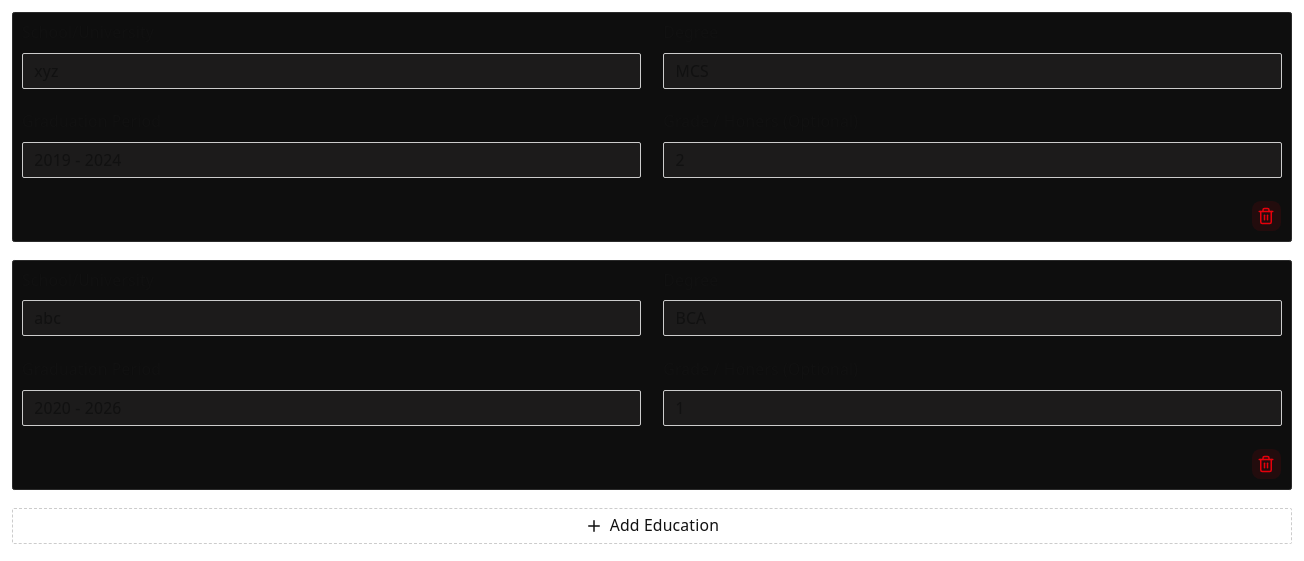
Education section › delete all educations
This screenshot has width=1304, height=561.
Expected: the number of elements with class "education-field" is 2, x1=12 y1=12 x2=1292 y2=242; x1=12 y1=260 x2=1292 y2=490
Click the 1st button named "remove" at [1266, 216], box x1=1250 y1=200 x2=1282 y2=232
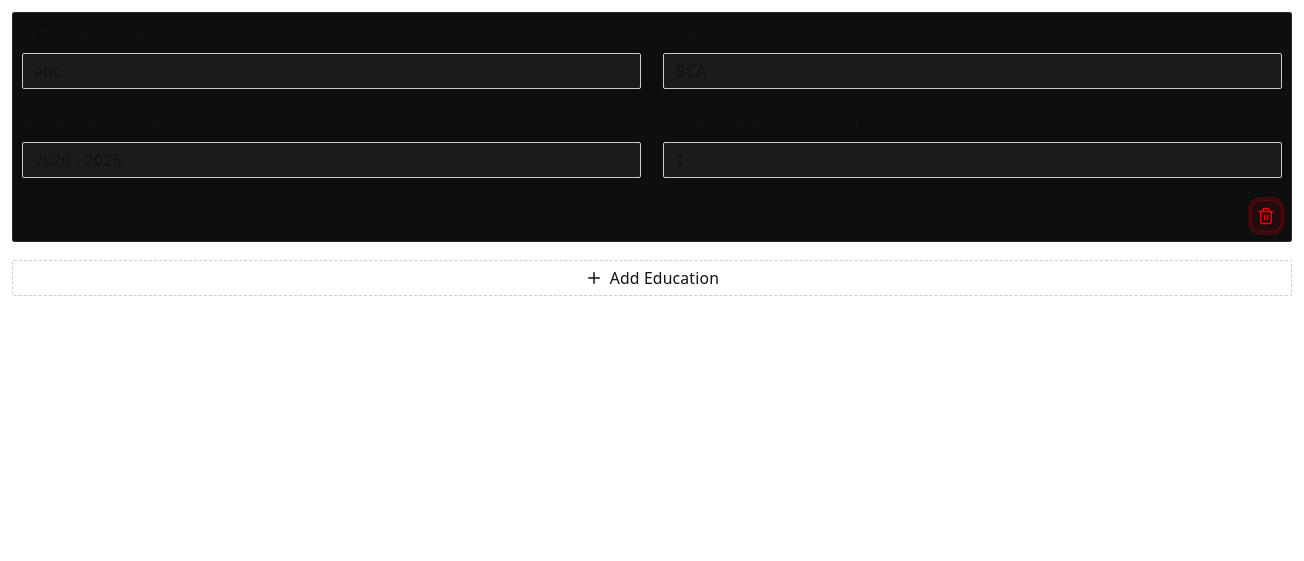
Click the button named "remove" at [1266, 216], box x1=1250 y1=200 x2=1282 y2=232
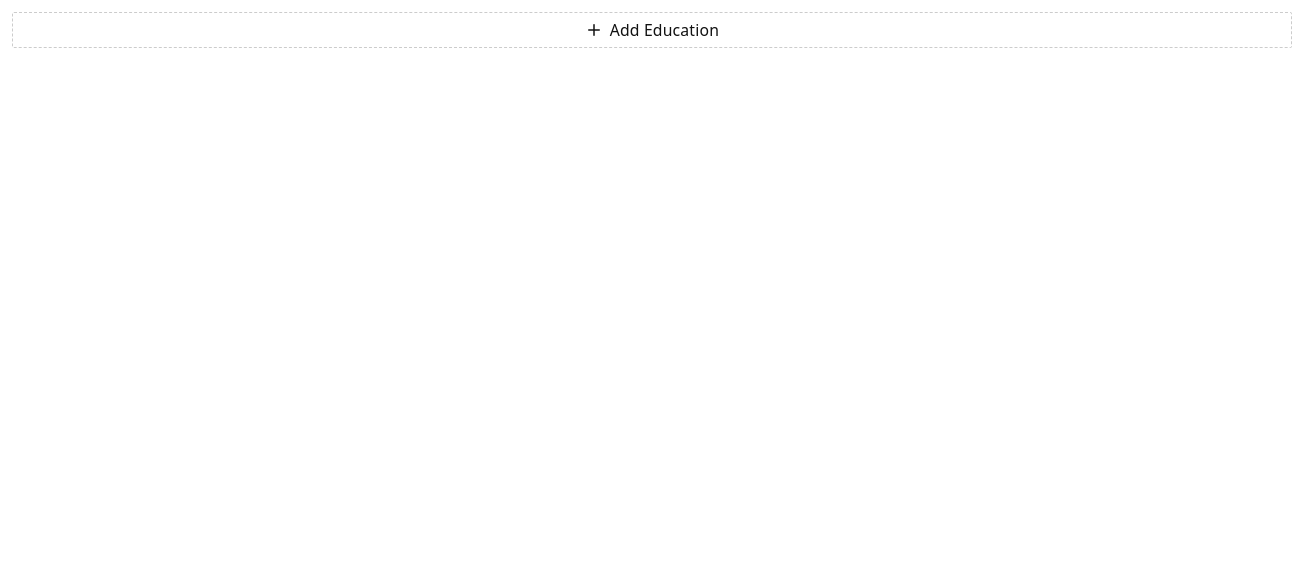
Expected: no elements with class "education-field" are shown
